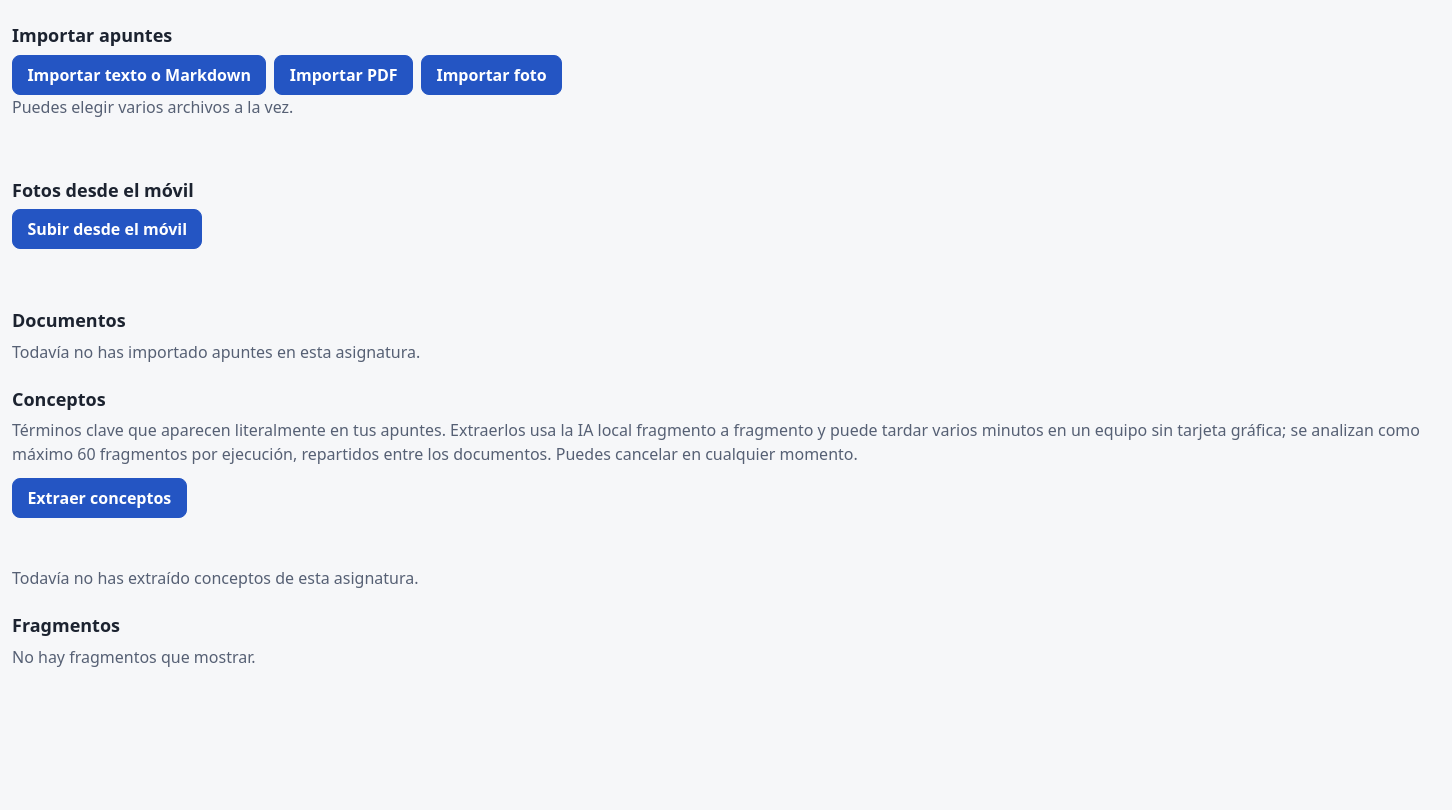
Notes: varios archivos de golpe › importa varios textos y resume cuántos y cuáles
Expected: the text "Puedes elegir varios archivos a la vez." is shown, x1=12 y1=96 x2=293 y2=118
Click the button "Importar texto o Markdown" at (139, 74), box x1=12 y1=54 x2=266 y2=94
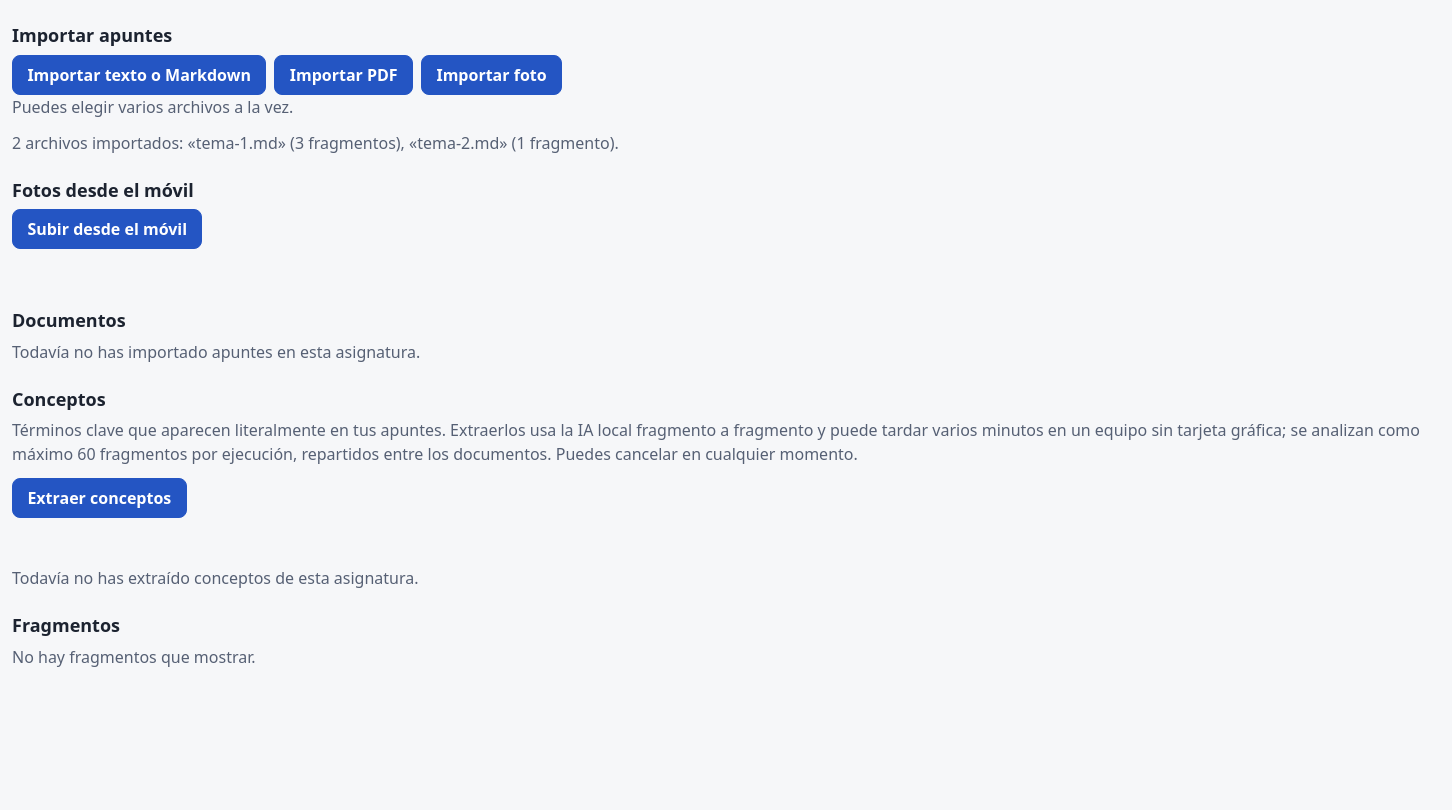
Now the message shows "2 archivos importados", box x1=12 y1=132 x2=619 y2=154
Now the message reads "2 archivos importados: «tema-1.md» (3 fragmentos), «tema-2.md» (1 fragmento).", box x1=12 y1=132 x2=619 y2=154
